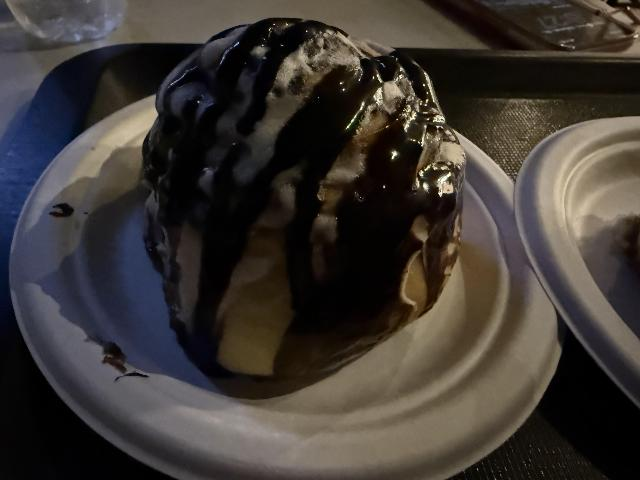Organik: (133, 14, 467, 356)
